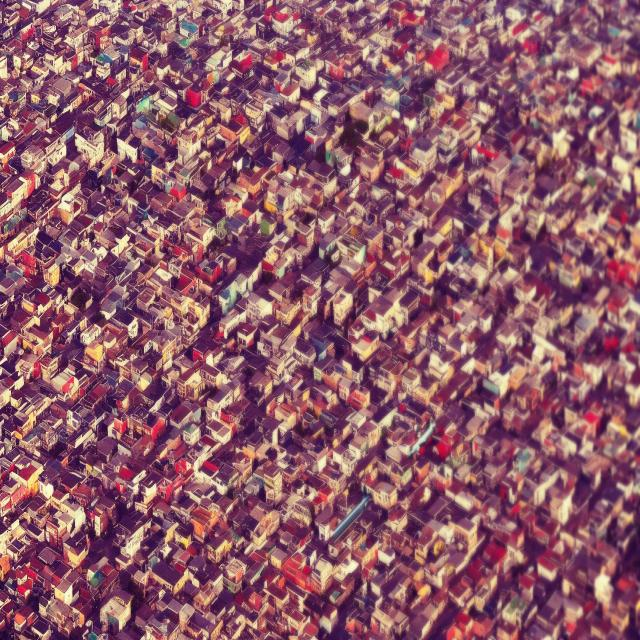airplane: (330, 484, 373, 541), (409, 416, 438, 456)
